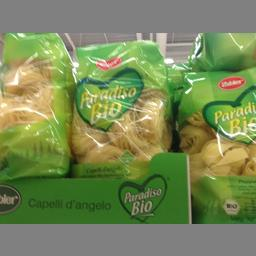pasta: (70, 40, 174, 175), (176, 65, 255, 222), (0, 31, 71, 177)
